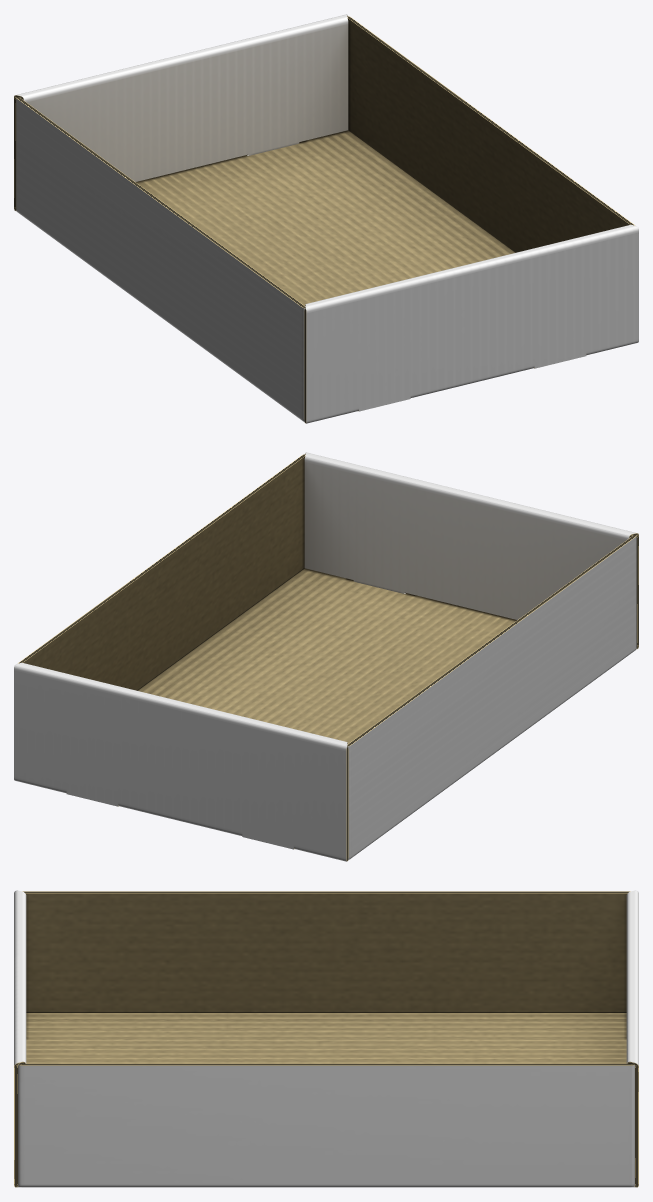
3 renders of one model, top to bottom at view 1: azimuth 30°, elevation 25°; view 2: azimuth 150°, elevation 25°; view 3: azimuth 270°, elevation 25°, orthographic. The views are drawn at different scales.
Parts seen in each view (by area): view 1: _1L0024_ARD-node; view 2: _1L0024_ARD-node; view 3: _1L0024_ARD-node.
Boxes of the visible parts, x1,y1,x2,y2 form: _1L0024_ARD-node: (14,14,638,423); _1L0024_ARD-node: (14,452,638,861); _1L0024_ARD-node: (14,890,638,1187).
Size of the model in its own units: 0.3232 by 0.1086 by 0.4902.
3 materials, 3 textured.
